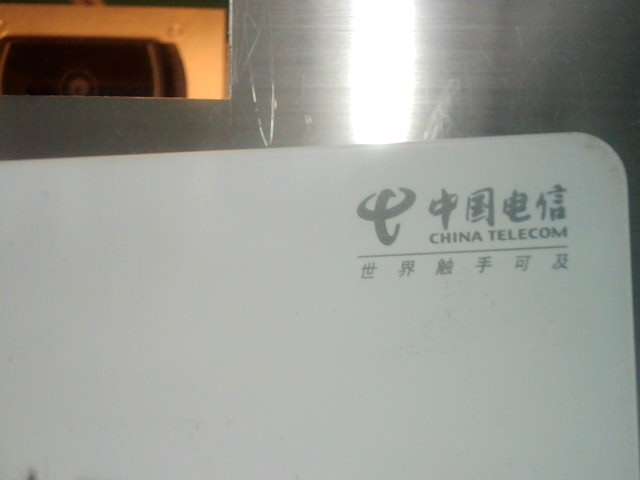AB_ChinaTelecom: (342, 183, 591, 282)
